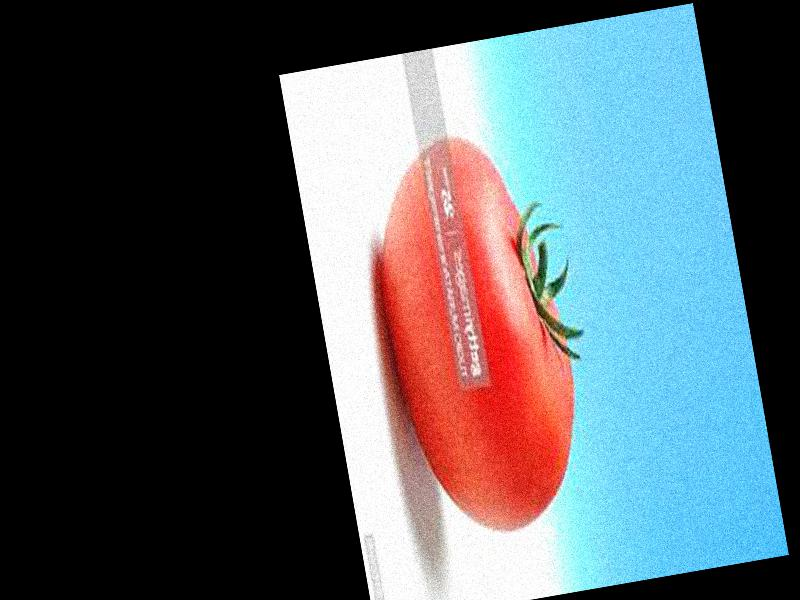Tomato: (359, 121, 595, 542)
